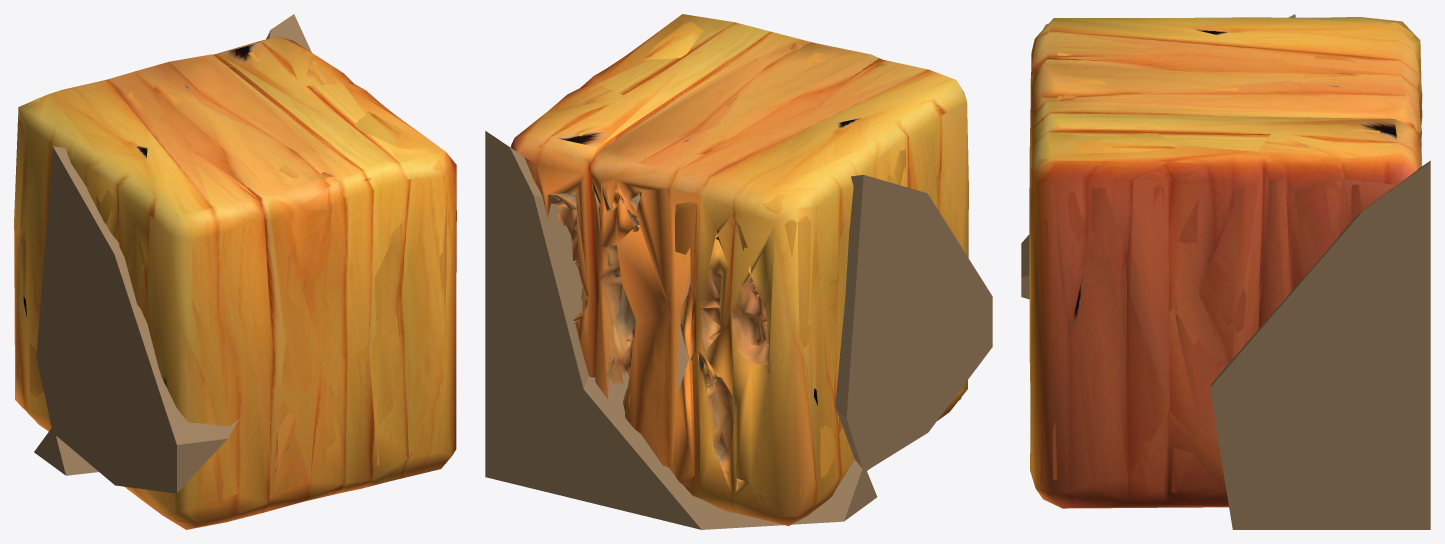
The model's file is ahsap_kup_2_parcali.glb.
3 views of the same model, side by side, from view 1: azimuth 30°, elevation 25°; view 2: azimuth 150°, elevation 25°; view 3: azimuth 270°, elevation 25° (orthographic). The views are drawn at different scales.
Visible parts, largest first — view 1: p05, p07, p02; view 2: p05, p07, p02; view 3: p05, p07.
Part boxes in pixels (<box>): p05: <box>14,14,456,529</box>; p07: <box>36,146,238,493</box>; p02: <box>34,428,98,475</box>; p05: <box>485,14,968,525</box>; p07: <box>835,175,992,470</box>; p02: <box>581,310,877,529</box>; p05: <box>1029,17,1430,529</box>; p07: <box>1021,14,1295,299</box>.
Bounding box in the file's own units: 0.9563 × 1.01 × 1.01.
2 materials, 1 textured.
